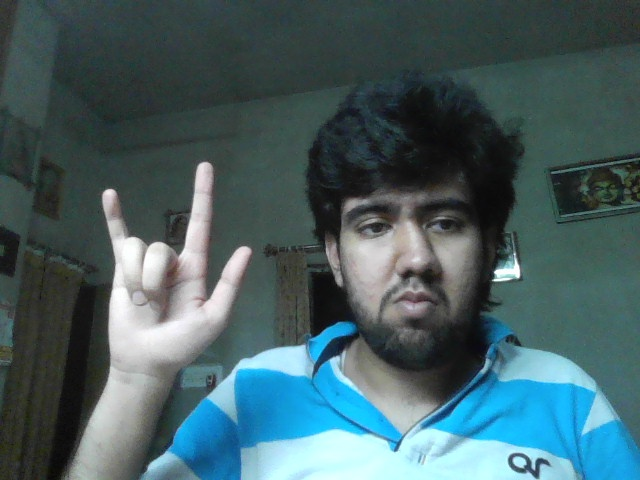ILoveYou: (101, 161, 253, 369)
